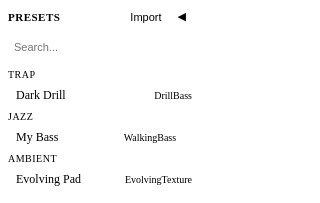
Test: PresetBrowser › filters patterns by search
The image size is (320, 203).
Expected: the text "Dark Drill" is shown, left=16, top=88, right=66, bottom=103
Type "drill" into the field with placeholder "Search..." at (100, 47), box left=8, top=37, right=192, bottom=57
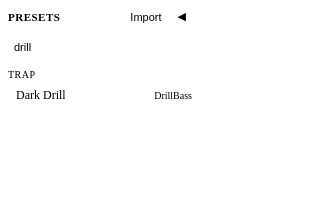
Expected: the text "Dark Drill" is shown, left=16, top=88, right=66, bottom=103
Now the text "Evolving Pad" is gone
